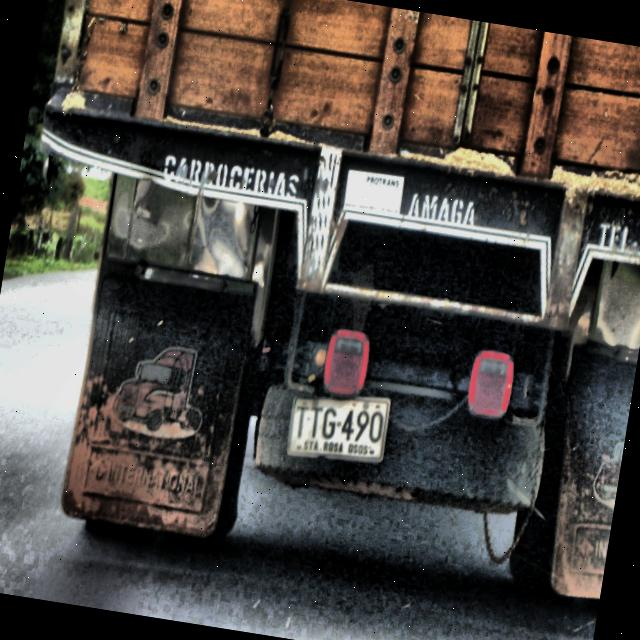plate: (286, 394, 391, 462)
